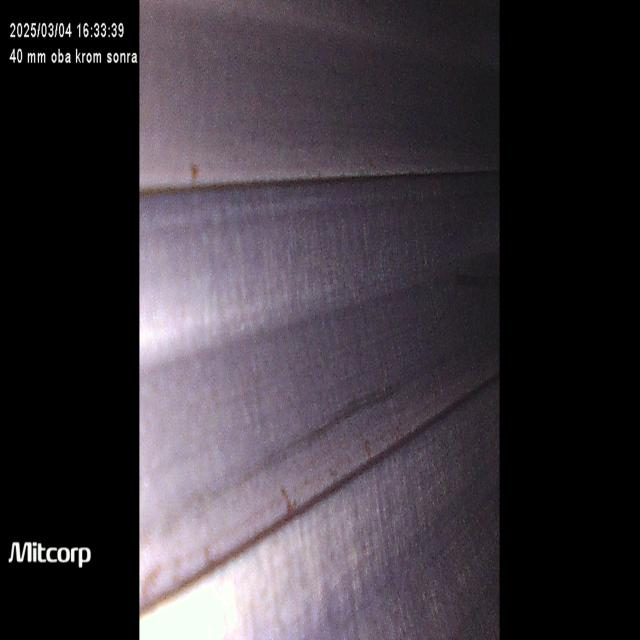hata_4.2: (265, 474, 309, 537), (177, 134, 210, 206), (324, 450, 353, 518), (360, 416, 384, 485)
